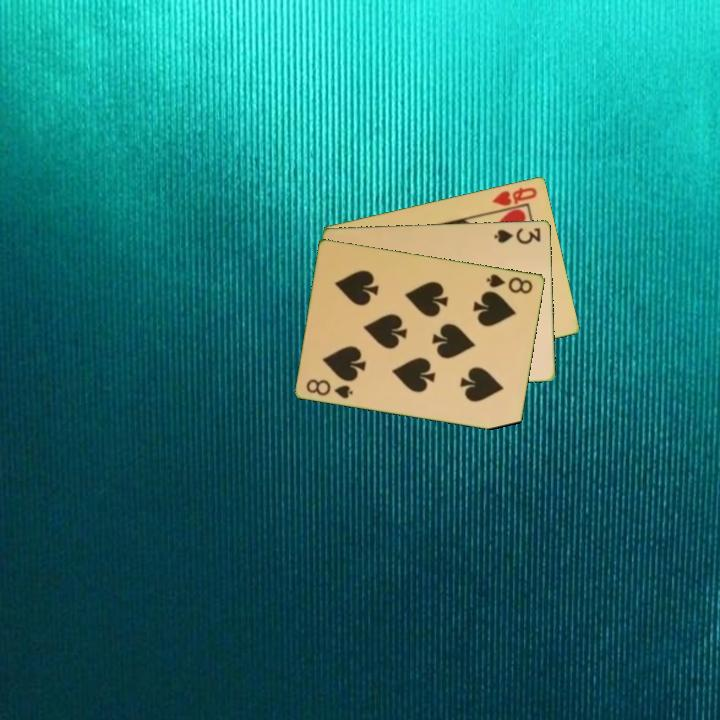3s: (491, 224, 543, 246)
8s: (483, 270, 536, 297), (303, 375, 356, 401)
Qh: (488, 183, 540, 214)
